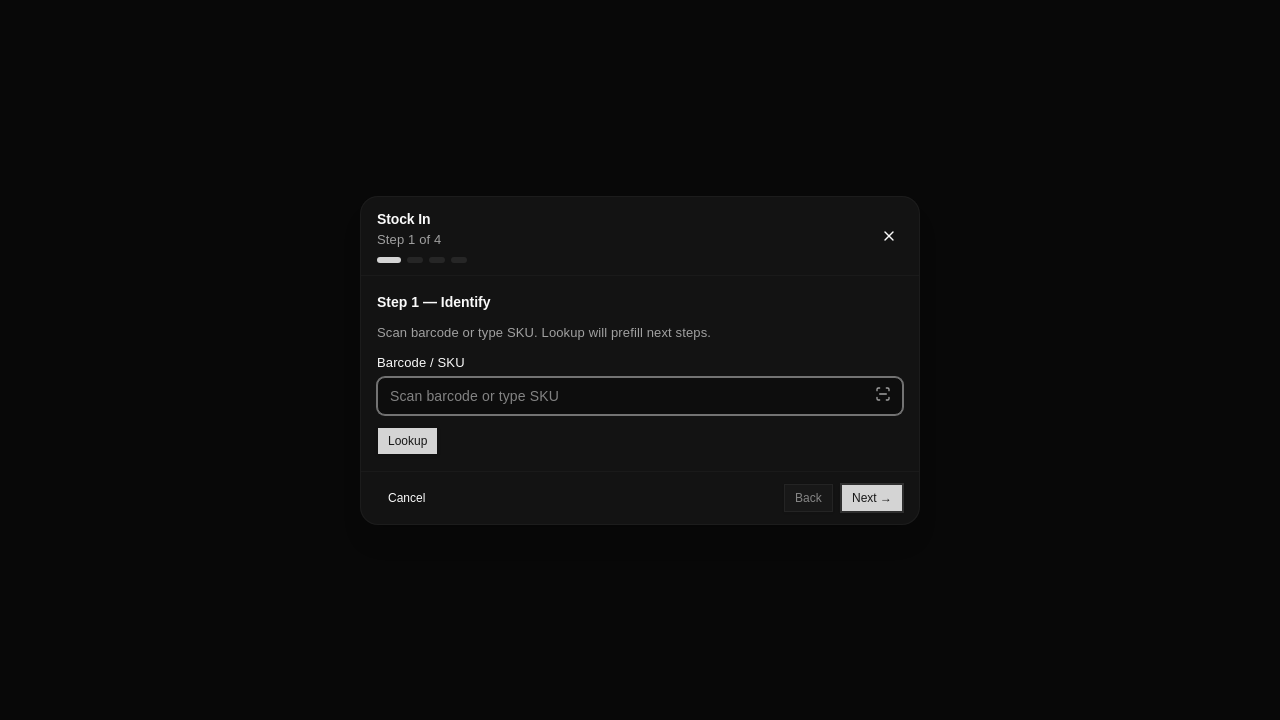
Test: StockInWizard — supplier UI removed, still proceed without it › required indicators appear on Step 2 only after Next is tried
This screenshot has width=1280, height=720.
Type "SKU-005" into the field with placeholder "Scan barcode or type SKU".
click(640, 395); type("SKU-005")  # box [377,376,903,414]
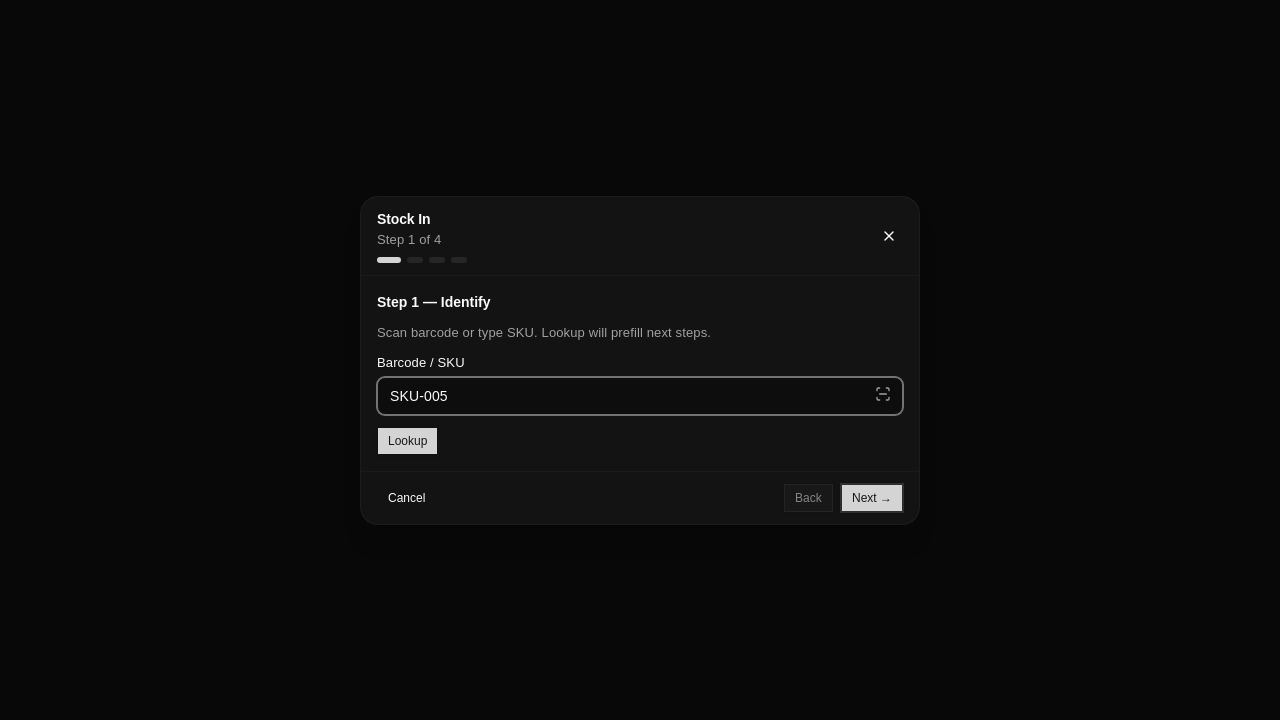
Click the button "Next →".
click(872, 497)  # box [841,483,903,511]
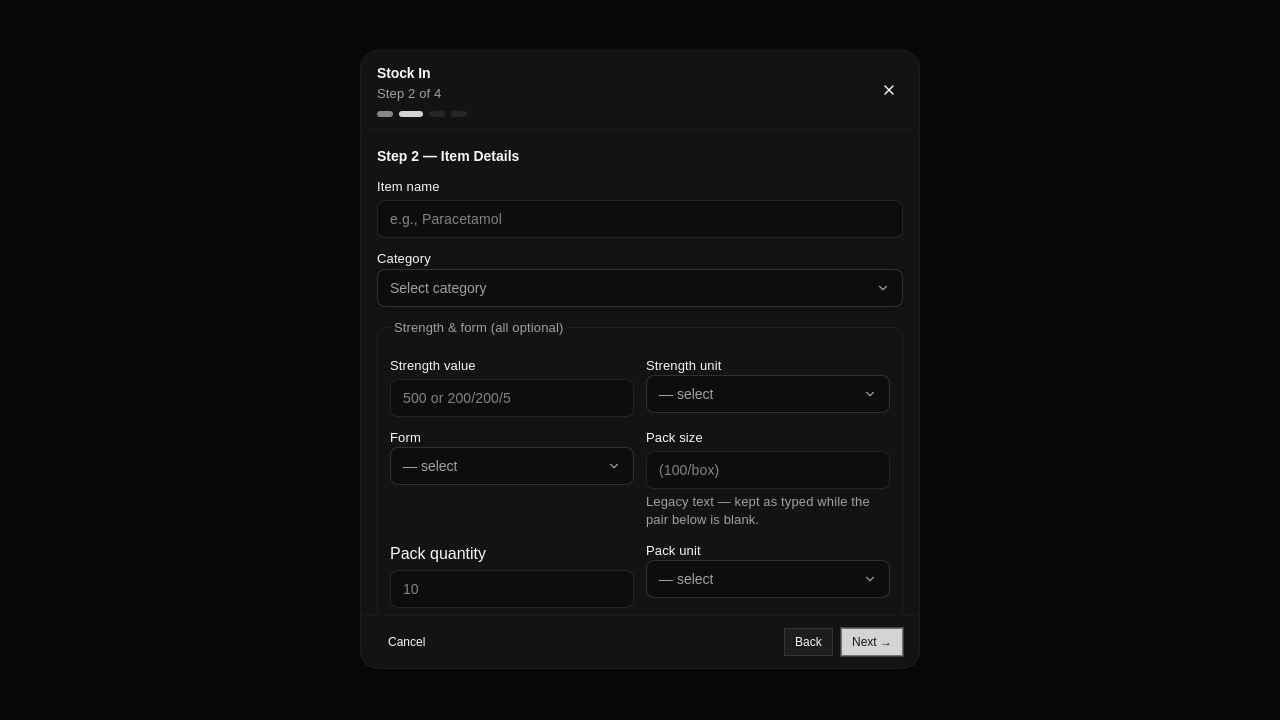
Expected: the text "Name required." is not shown
Now the heading "Step 2 — Item Details" is shown, box [377,149,519,165]
Click the button "Next →".
click(872, 643)  # box [841,629,903,657]
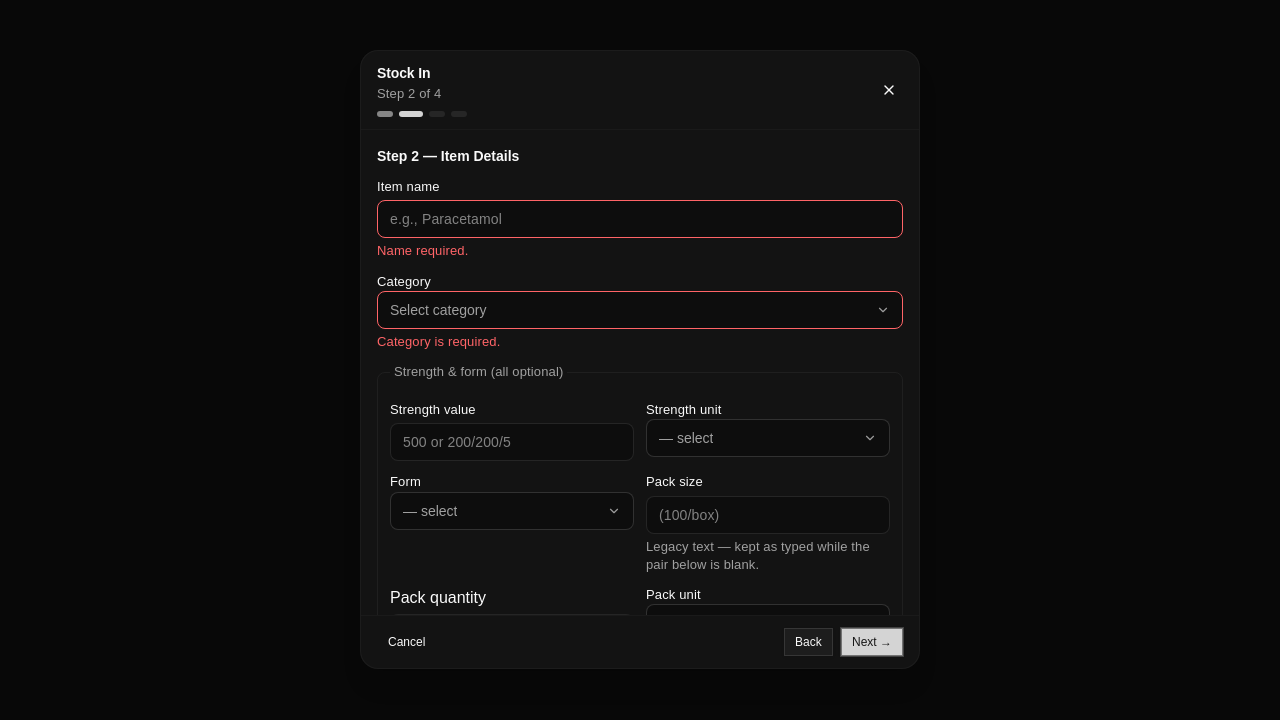
Now the heading "Step 2 — Item Details" is shown, box [377,149,519,165]
Now the text "Name required." is shown, box [377,244,468,259]
Now the text "Category is required." is shown, box [377,334,500,349]
Type "New Item" into the field with placeholder "e.g., Paracetamol".
click(640, 220); type("New Item")  # box [377,201,903,239]
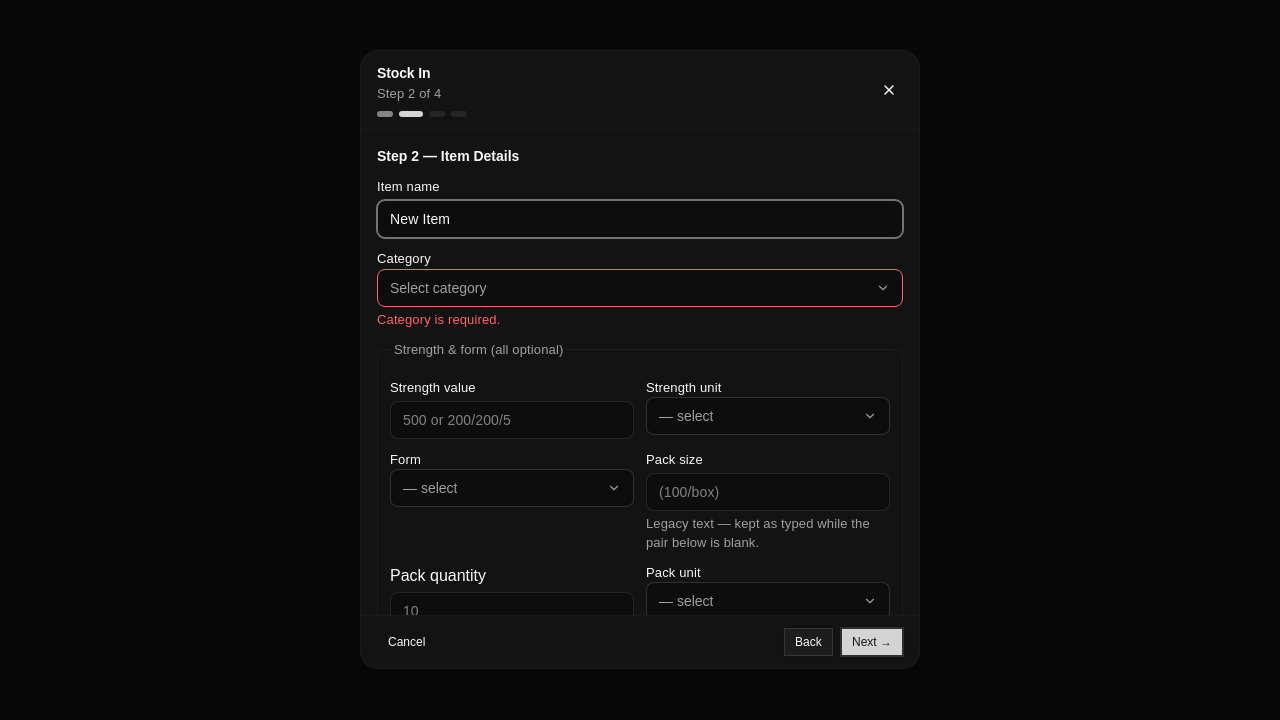
Now the text "Category is required." is shown, box [377,312,500,327]
Now the text "Name required." is gone
